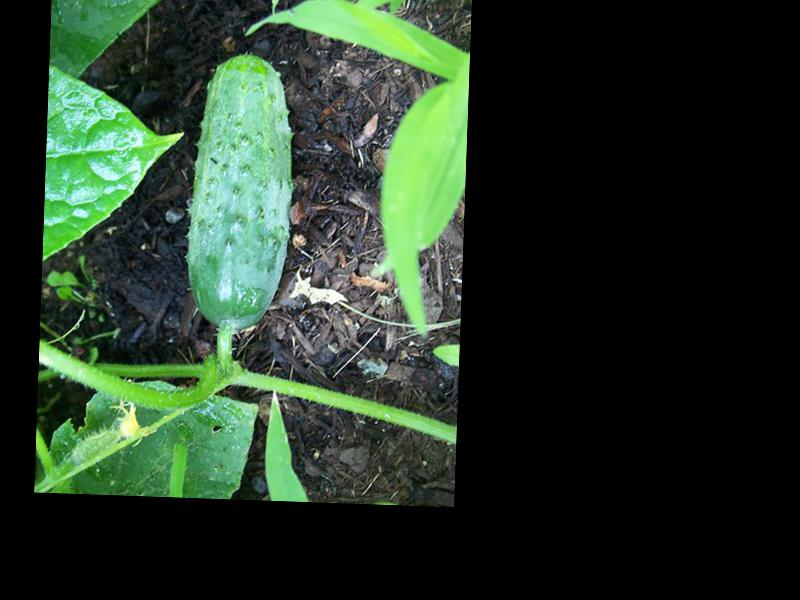Cucumber: (184, 49, 297, 331)
